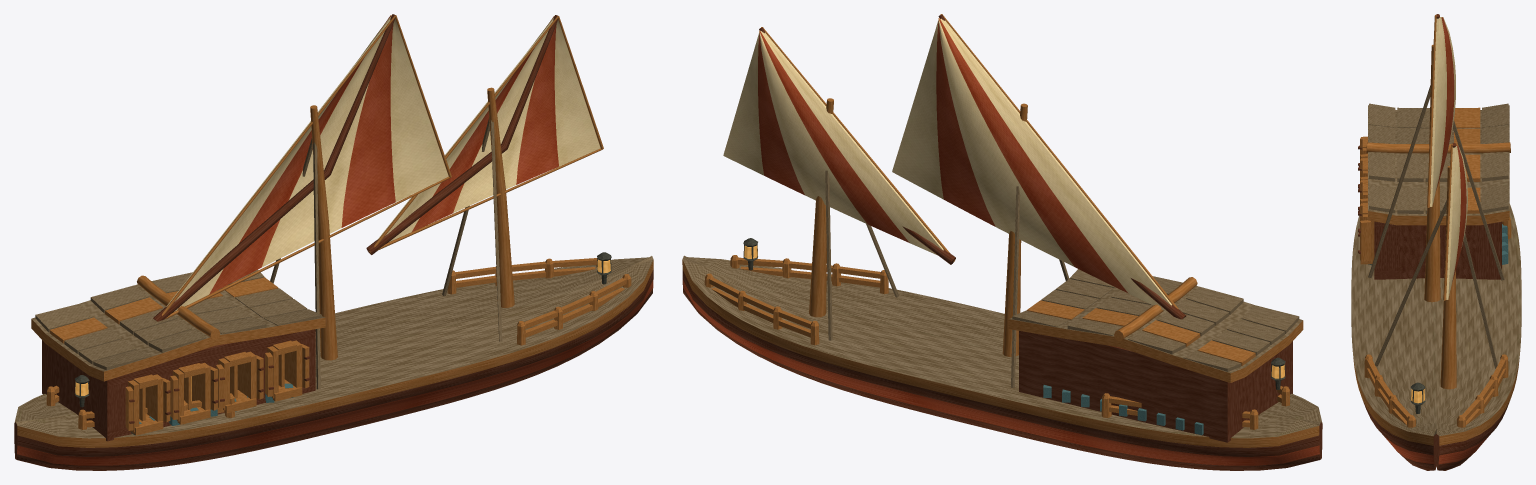
File: nile_royal_dahabiya_mid.glb
3 views of the same model, side by side, from view 1: azimuth 30°, elevation 25°; view 2: azimuth 150°, elevation 25°; view 3: azimuth 270°, elevation 25° (orthographic). The views are drawn at different scales.
Visible parts, largest first — view 1: nile_royal_dahabiya_mid; view 2: nile_royal_dahabiya_mid; view 3: nile_royal_dahabiya_mid.
Part boxes in pixels (bbox=[...]): nile_royal_dahabiya_mid: bbox=[14, 14, 653, 470]; nile_royal_dahabiya_mid: bbox=[682, 14, 1322, 470]; nile_royal_dahabiya_mid: bbox=[1351, 14, 1521, 470].
Bounding box in the file's own units: 16 × 9.5 × 3.8.
2 materials, 2 textured.
